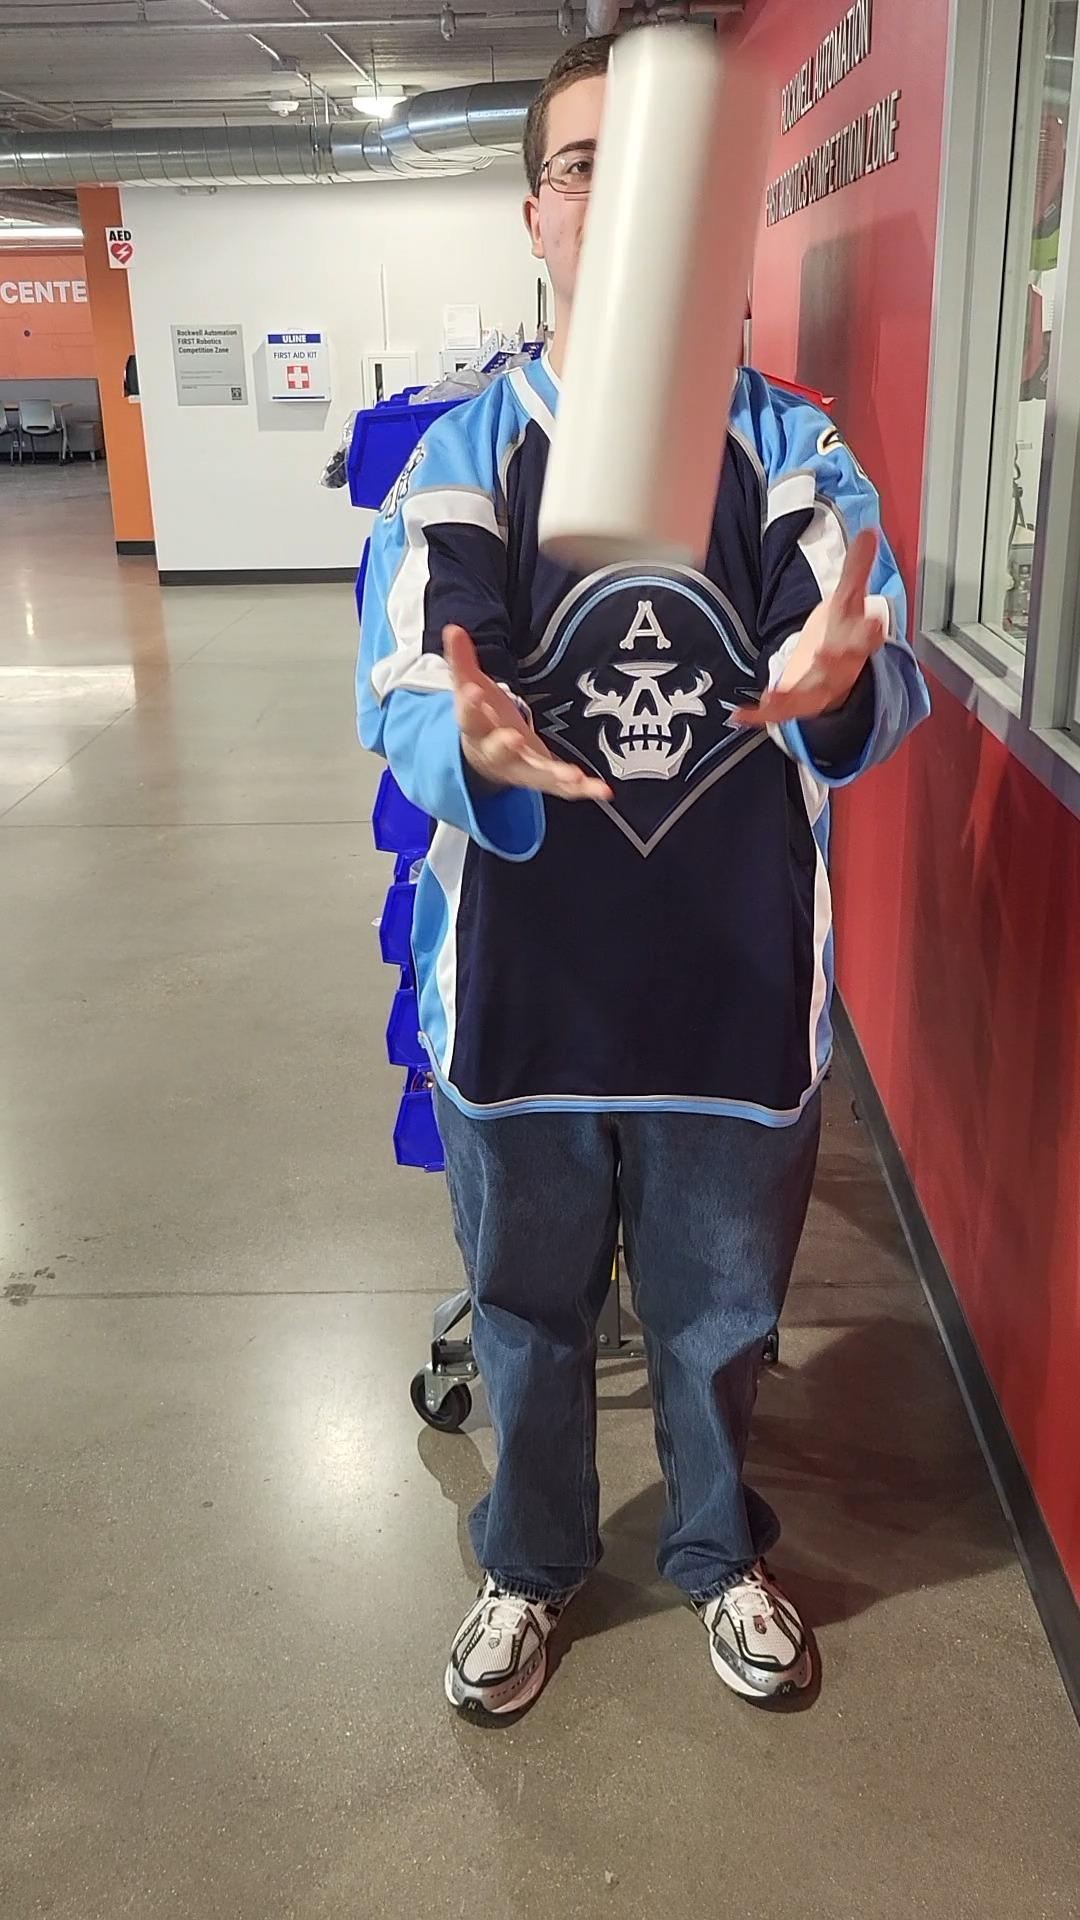coral: (524, 4, 777, 587)
